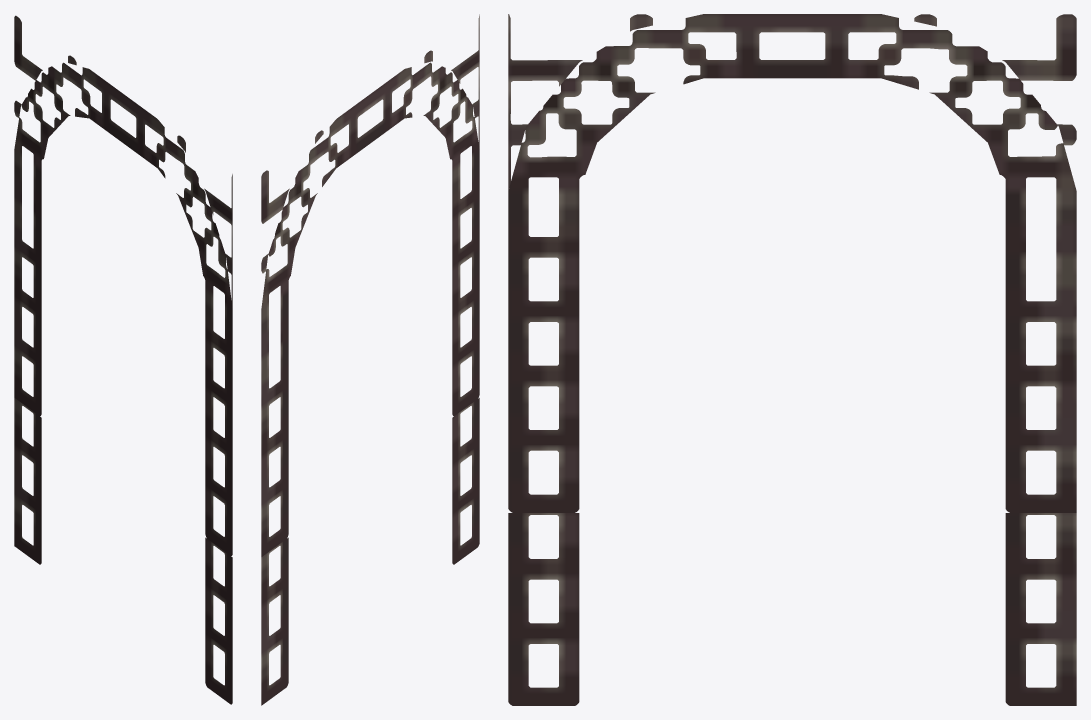
File: ObjMD_Arch_A.FBX
3 views of the same model, side by side, from view 1: azimuth 30°, elevation 25°; view 2: azimuth 150°, elevation 25°; view 3: azimuth 270°, elevation 25° (orthographic). The views are drawn at different scales.
Parts seen in each view (by area): view 1: ObjMD_Arch_A; view 2: ObjMD_Arch_A; view 3: ObjMD_Arch_A.
Part boxes in pixels (box(x1,y1,x2,y2)): ObjMD_Arch_A: box(14, 15, 232, 704); ObjMD_Arch_A: box(261, 14, 479, 705); ObjMD_Arch_A: box(508, 14, 1076, 705).
Size of the model in its own units: 0 by 269 by 200.
